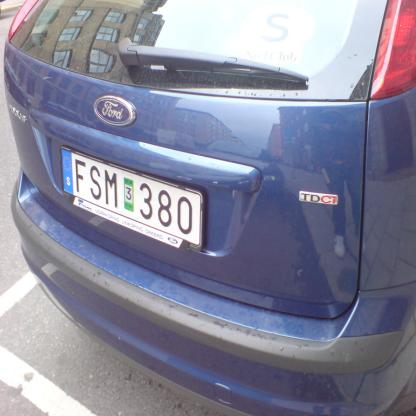Car: (4, 1, 416, 416)
